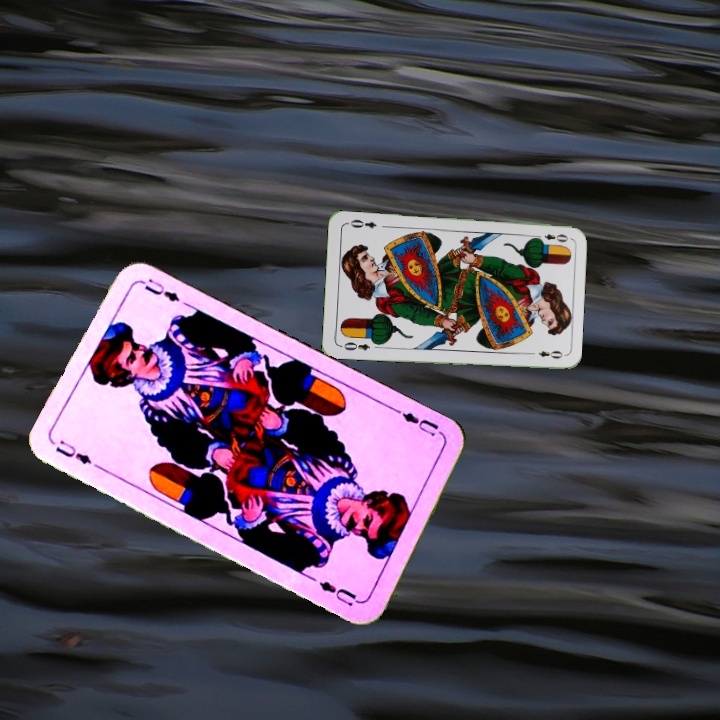EO: (531, 230, 571, 244), (336, 338, 372, 353)
EU: (395, 406, 442, 440), (51, 435, 95, 467)
